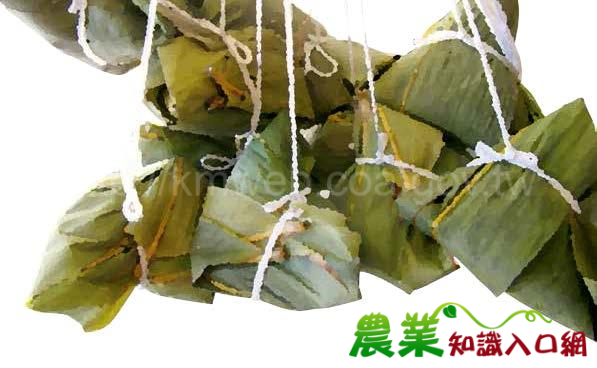zongzi: (395, 99, 596, 336), (193, 111, 359, 310), (144, 0, 394, 132), (28, 157, 213, 330), (313, 97, 457, 292), (374, 0, 501, 147), (0, 0, 146, 73), (468, 0, 542, 133), (138, 123, 230, 180)
